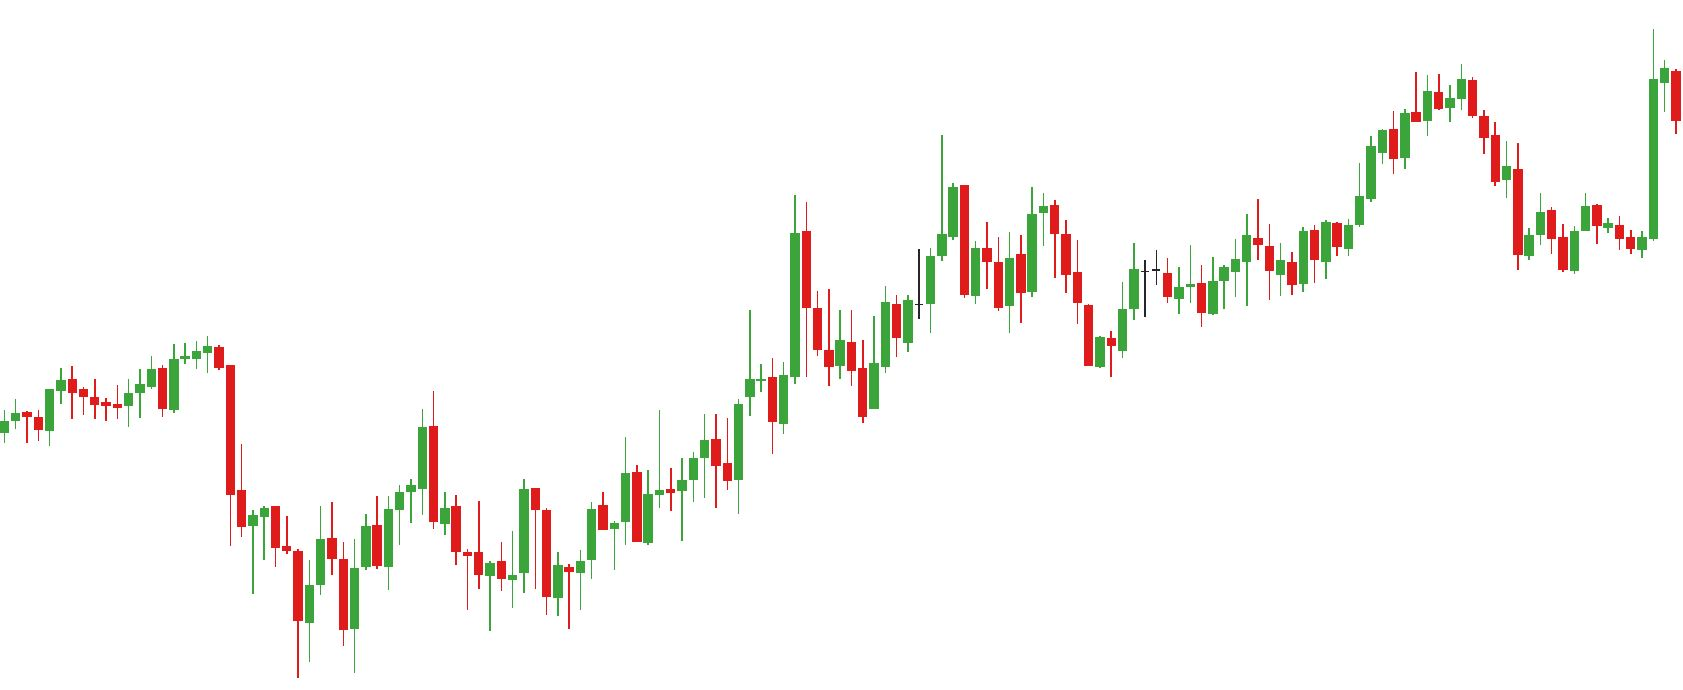buy: (1004, 247, 1129, 380), (247, 539, 316, 682)
